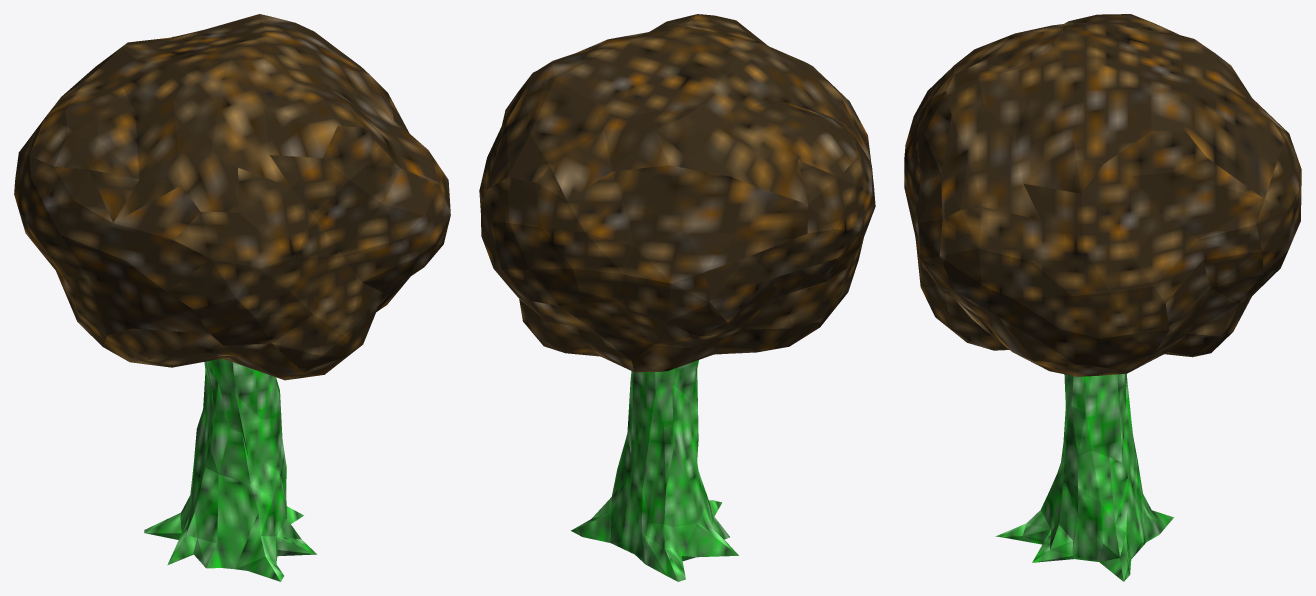
File: Tree3.obj
3 renders of one model, left to right at view 1: azimuth 30°, elevation 25°; view 2: azimuth 150°, elevation 25°; view 3: azimuth 270°, elevation 25°, orthographic.
Parts seen in each view (by area): view 1: tree3; view 2: tree3; view 3: tree3.
Part boxes in pixels (left/top/right/bottom): tree3: left=14, top=14, right=450, bottom=581; tree3: left=479, top=14, right=875, bottom=581; tree3: left=904, top=14, right=1301, bottom=581.
Bounding box in the file's own units: 237 × 305 × 219.
1 material, 1 textured.
